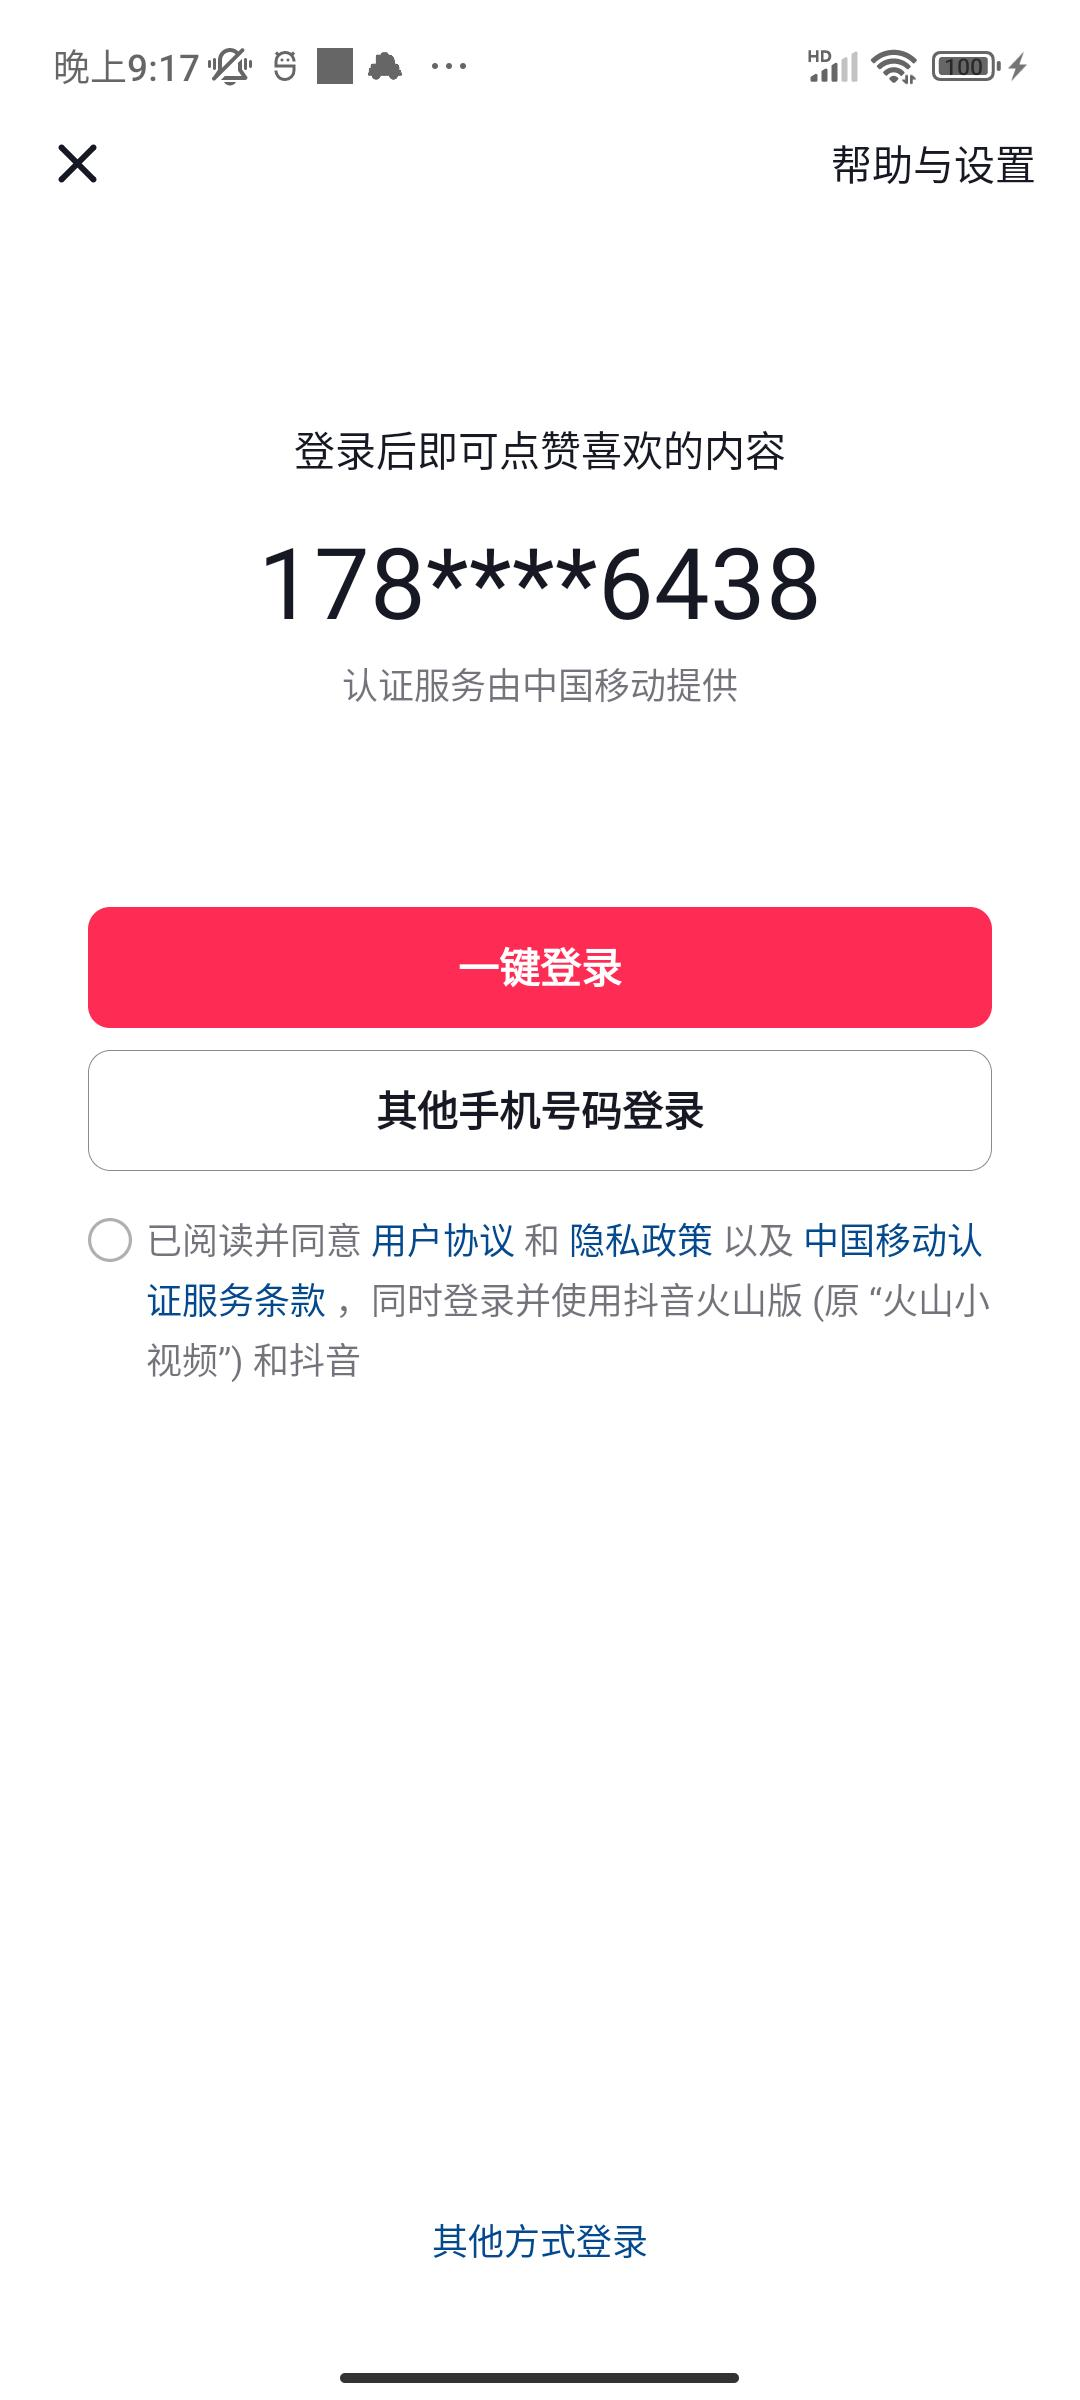ui_group: (49, 380, 1013, 1411), (353, 2187, 711, 2314)
